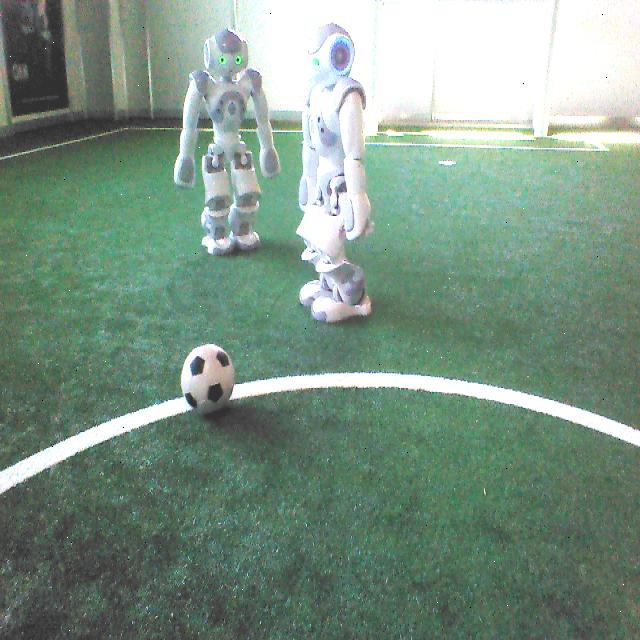ball: (183, 346, 236, 418)
goalpost: (533, 0, 563, 137), (367, 2, 382, 130)
